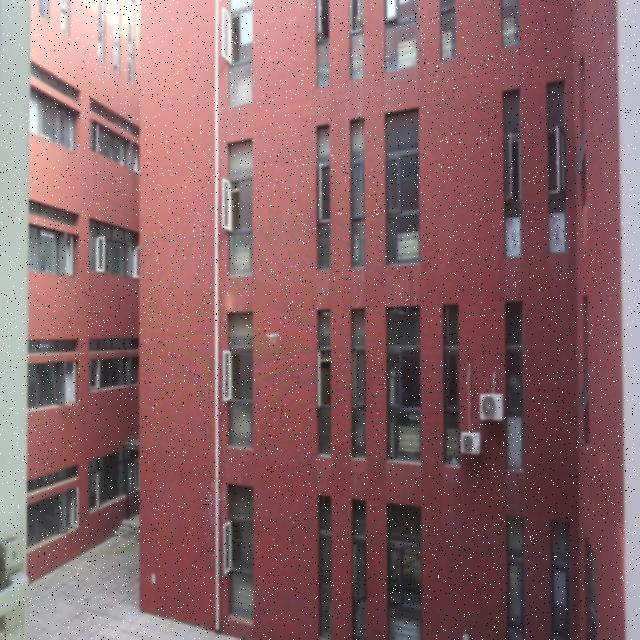UAV: (265, 333, 280, 343)
